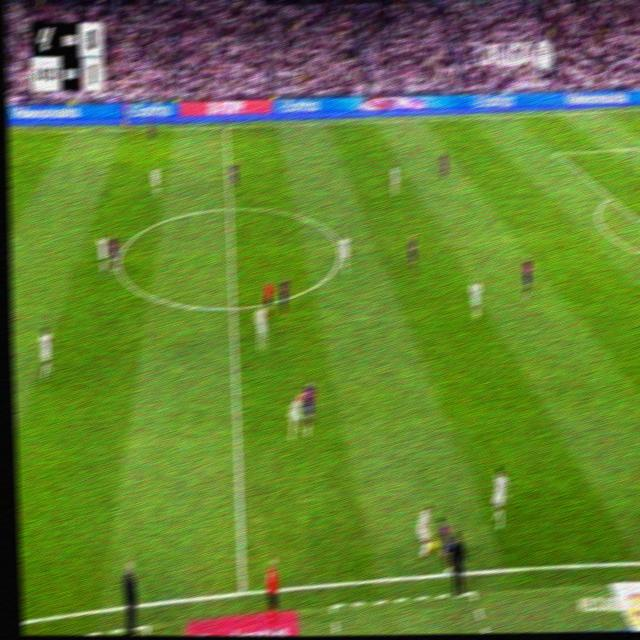bigarea_top_inner: (554, 145, 562, 160)
corner: (638, 102, 640, 112)
halfcircle_bottom: (226, 294, 240, 319)
halfcircle_top: (222, 197, 236, 218)
midline_bottom_intersection: (232, 575, 252, 604)
midline_top_intersection: (221, 118, 232, 134)
top_arc_area_intersection: (604, 188, 615, 204)
